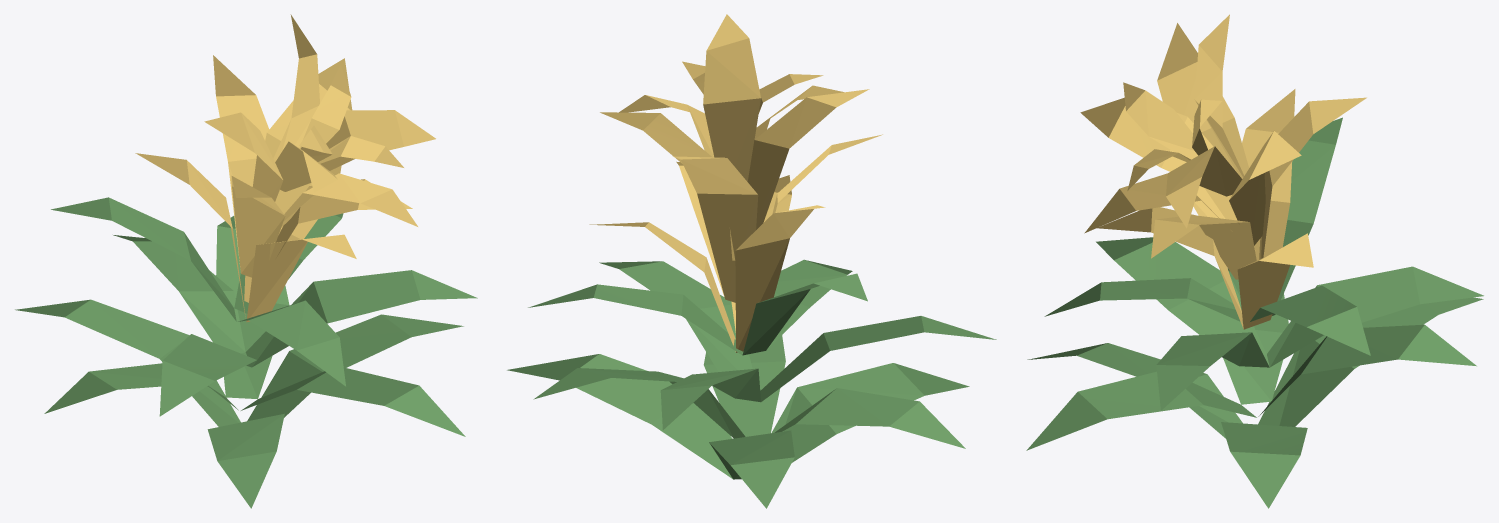
The model's file is medicinalPlant.fbx.
The picture shows the model from 3 angles, left to right: view 1: azimuth 30°, elevation 25°; view 2: azimuth 150°, elevation 25°; view 3: azimuth 270°, elevation 25°; orthographic projection. The views are drawn at different scales.
Visible parts, largest first — view 1: medicinalPlant; view 2: medicinalPlant; view 3: medicinalPlant.
Boxes of the visible parts, bbox=[...] form: medicinalPlant: bbox=[15, 14, 477, 508]; medicinalPlant: bbox=[507, 14, 996, 508]; medicinalPlant: bbox=[1026, 14, 1483, 508].
Bounding box in the file's own units: 1.73 × 1.62 × 1.51.
1 material, 1 textured.
